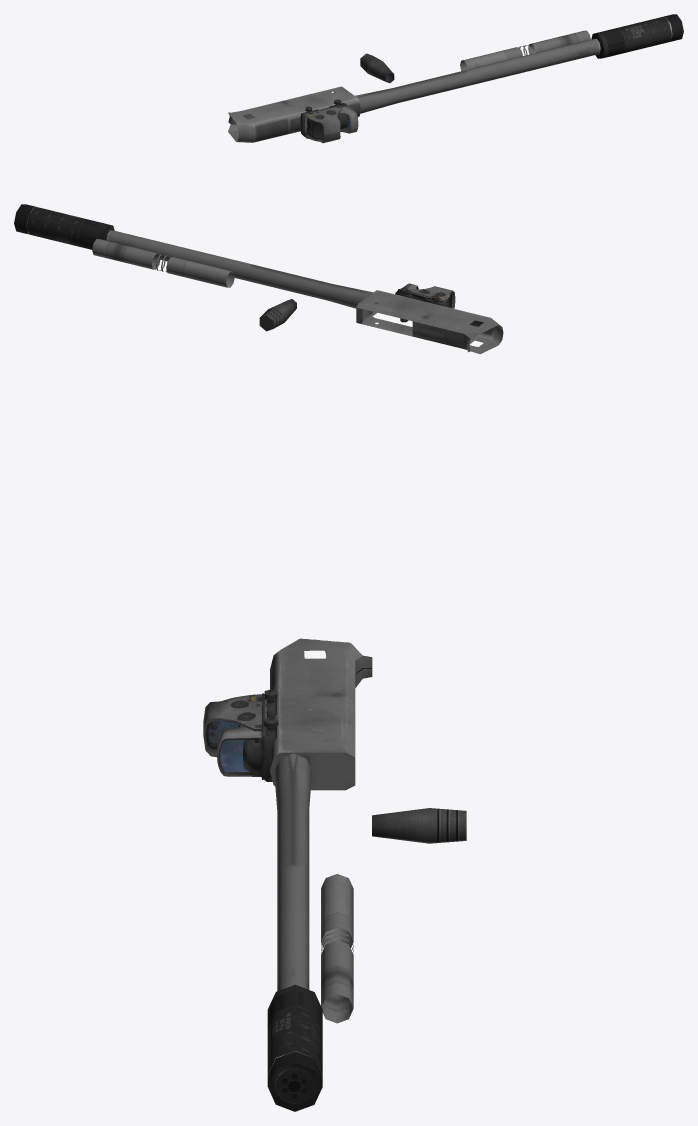
Rendered from weapon_benelli_super_90_arctic_LOD0.obj.
3 views of the same model, one above another, from view 1: azimuth 30°, elevation 25°; view 2: azimuth 150°, elevation 25°; view 3: azimuth 270°, elevation 25° (orthographic). The views are drawn at different scales.
Parts seen in each view (by area): view 1: mtl_weapon_m1014_arctic, mtl_weapon_suppressor_b, mtl_weapon_eotech_2_arctic, mtl_weapon_red_dot_sight_arctic, mtl_weapon_kriss_foregrip; view 2: mtl_weapon_m1014_arctic, mtl_weapon_suppressor_b, mtl_weapon_kriss_foregrip, mtl_weapon_eotech_2_arctic, mtl_weapon_red_dot_sight_arctic; view 3: mtl_weapon_m1014_arctic, mtl_weapon_suppressor_b, mtl_weapon_kriss_foregrip, mtl_weapon_eotech_2_arctic, mtl_weapon_red_dot_sight_arctic.
Boxes of the visible parts, x1,y1,x2,y2 form: mtl_weapon_m1014_arctic: [228, 30, 600, 142]; mtl_weapon_suppressor_b: [591, 14, 683, 58]; mtl_weapon_eotech_2_arctic: [304, 105, 347, 143]; mtl_weapon_red_dot_sight_arctic: [300, 99, 358, 138]; mtl_weapon_kriss_foregrip: [360, 53, 394, 83]; mtl_weapon_m1014_arctic: [92, 230, 503, 354]; mtl_weapon_suppressor_b: [14, 204, 114, 249]; mtl_weapon_kriss_foregrip: [259, 299, 296, 331]; mtl_weapon_eotech_2_arctic: [399, 286, 455, 308]; mtl_weapon_red_dot_sight_arctic: [395, 283, 446, 322]; mtl_weapon_m1014_arctic: [270, 638, 372, 1023]; mtl_weapon_suppressor_b: [267, 984, 322, 1111]; mtl_weapon_kriss_foregrip: [372, 808, 466, 843]; mtl_weapon_eotech_2_arctic: [203, 694, 272, 771]; mtl_weapon_red_dot_sight_arctic: [217, 689, 278, 781].
Bounding box in the file's own units: 118 × 8 × 24.13.
